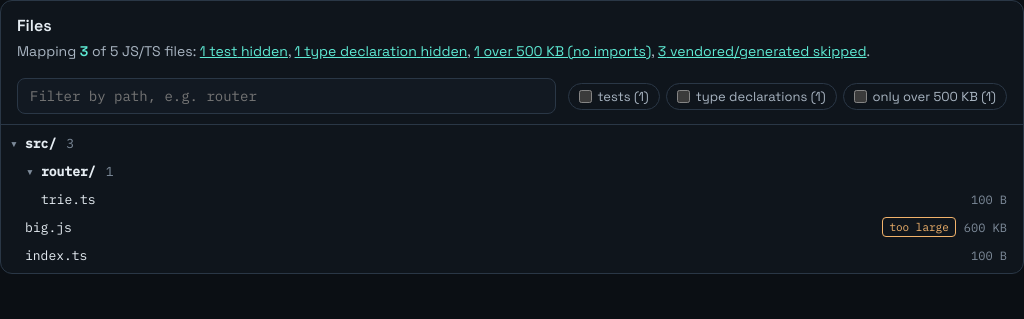
Scenario: FileInventory › reveals tests from the coverage line and the toggle
The width and height of the screenshot is (1024, 319).
Click the button "1 test hidden": (244, 51) [200, 40, 288, 62]
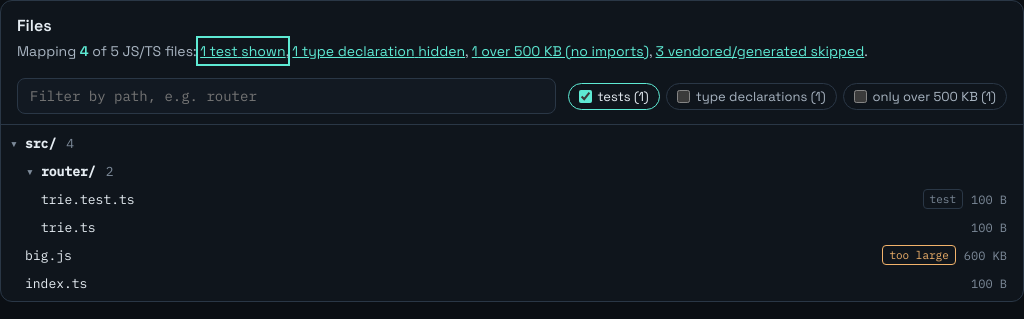
Expected: the text "Mapping" shows "Mapping 4 of 5", [17, 40, 1007, 62]
Expected: the checkbox labelled "tests (1)" is checked, [579, 90, 592, 103]
